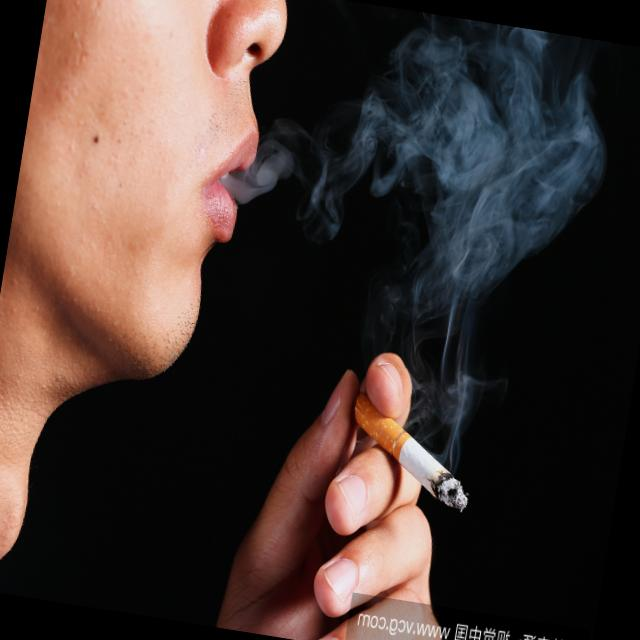smoke: (376, 413, 481, 518)
